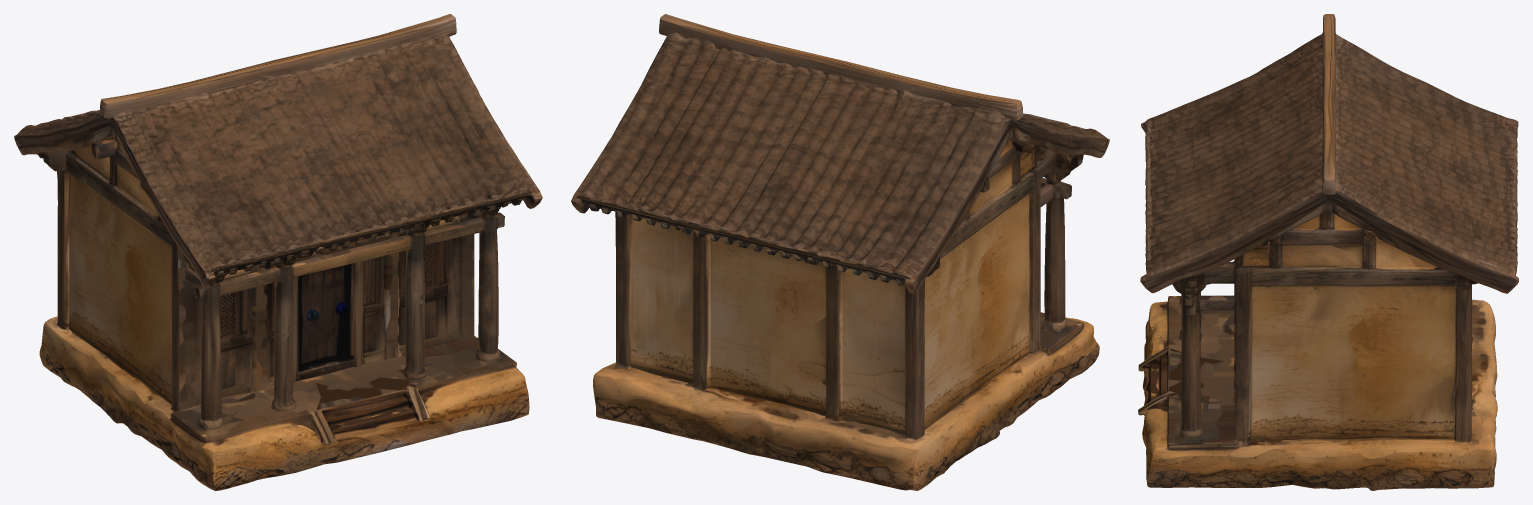
The model's file is warring-hall.glb.
3 views of the same model, side by side, from view 1: azimuth 30°, elevation 25°; view 2: azimuth 150°, elevation 25°; view 3: azimuth 270°, elevation 25° (orthographic). The views are drawn at different scales.
Visible parts, largest first — view 1: 1_output_1793508976879218_oUwAjlHBP; view 2: 1_output_1793508976879218_oUwAjlHBP; view 3: 1_output_1793508976879218_oUwAjlHBP.
Boxes of the visible parts, x1,y1,x2,y2 form: 1_output_1793508976879218_oUwAjlHBP: [14, 14, 542, 490]; 1_output_1793508976879218_oUwAjlHBP: [571, 14, 1109, 490]; 1_output_1793508976879218_oUwAjlHBP: [1138, 14, 1518, 490].
Size of the model in its own units: 1.99 by 1.79 by 1.92.
1 material, 1 textured.
